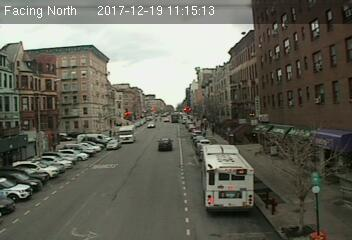bus: (200, 144, 256, 213)
car: (157, 138, 174, 153), (106, 139, 120, 149)
truck: (117, 126, 137, 144)
